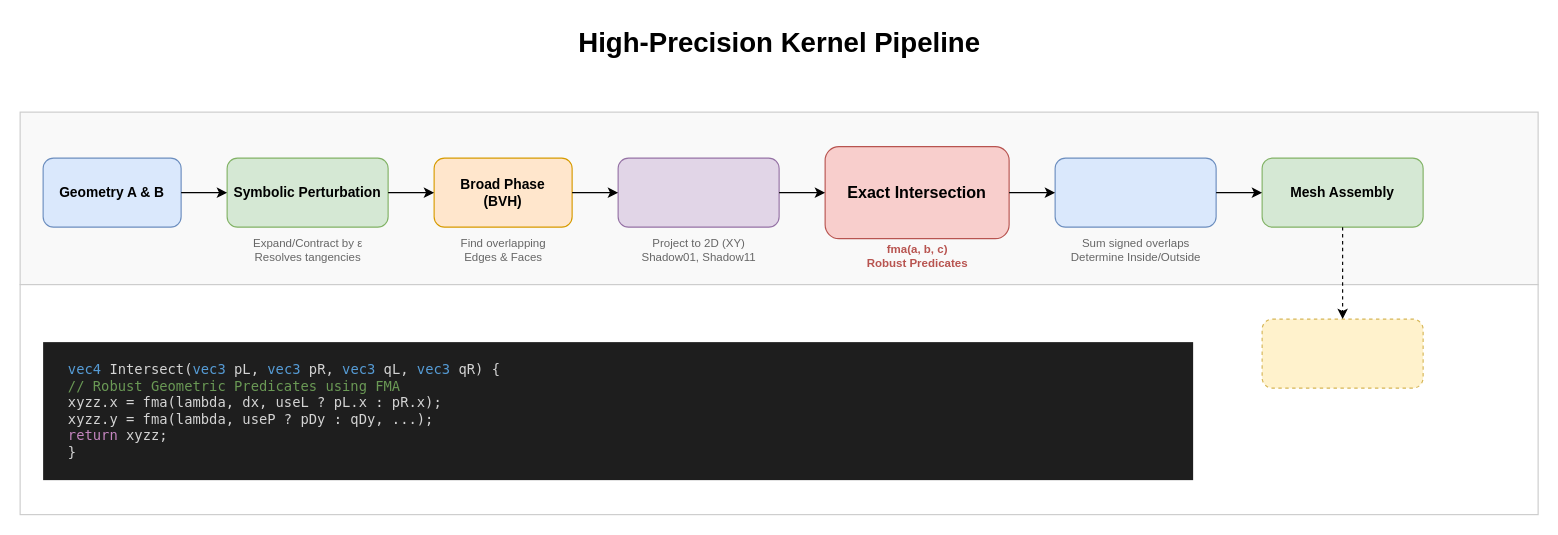
Image size: 1558x535. Some labels were removed from this diagram. The shapes that lost their labels are listed below. From the top down, each one's box as (x1, y1, x2, y2) in pixels, then its label:
(617, 157, 779, 227): Shadow Projection
(1054, 157, 1216, 227): Winding Number (Generalized)
(1261, 318, 1423, 388): N-gon Reconstruction
